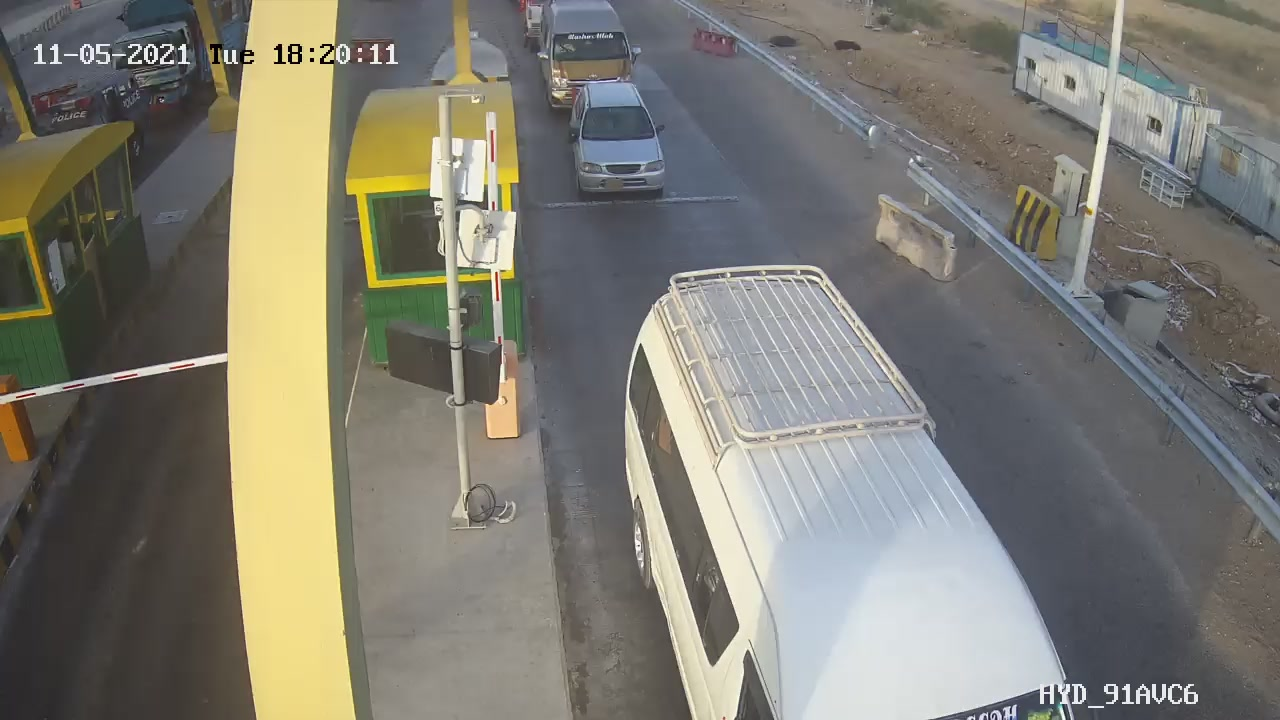F1: (563, 77, 687, 200)
